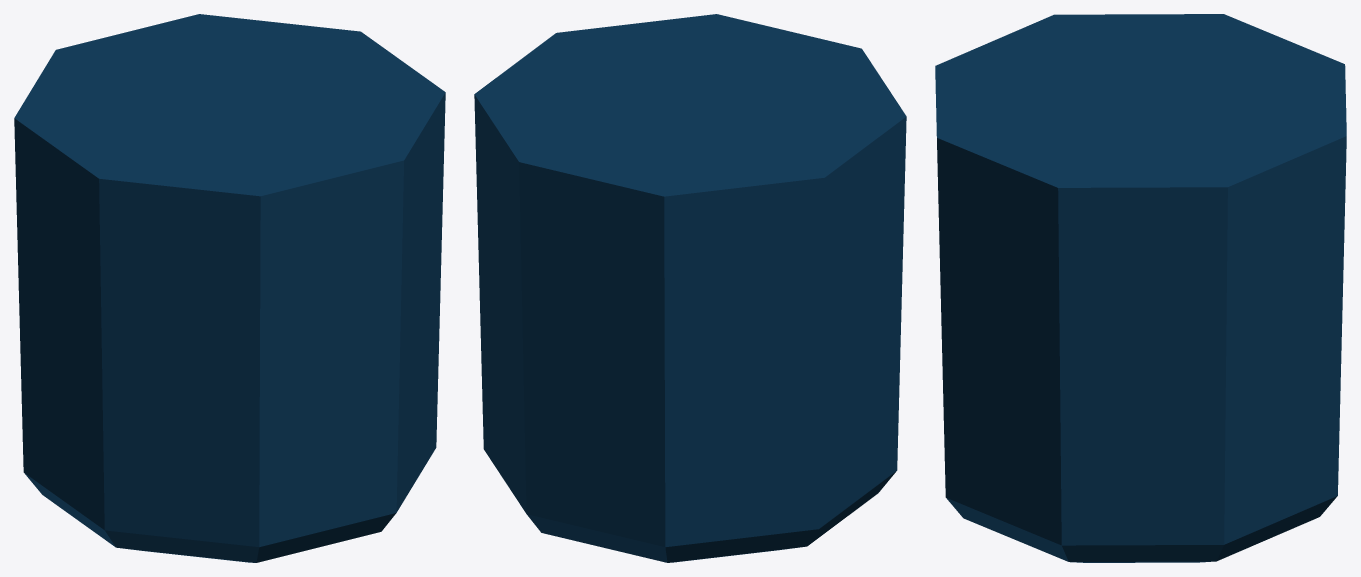
Rendered from Beaker_Colour.fbx.
3 views of the same model, side by side, from view 1: azimuth 30°, elevation 25°; view 2: azimuth 150°, elevation 25°; view 3: azimuth 270°, elevation 25° (orthographic).
Visible parts, largest first — view 1: PotionTubeLiquid.022; view 2: PotionTubeLiquid.022; view 3: PotionTubeLiquid.022.
Boxes of the visible parts, box(x1,y1,x2,y2) form: PotionTubeLiquid.022: box(14, 14, 445, 562); PotionTubeLiquid.022: box(474, 14, 906, 562); PotionTubeLiquid.022: box(935, 14, 1346, 562).
Bounding box in the file's own units: 17.57 × 19.81 × 17.57.
